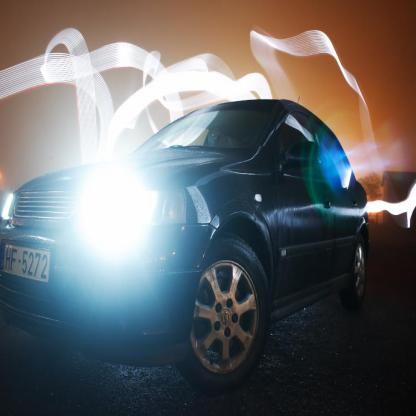Car: (0, 101, 368, 394)
